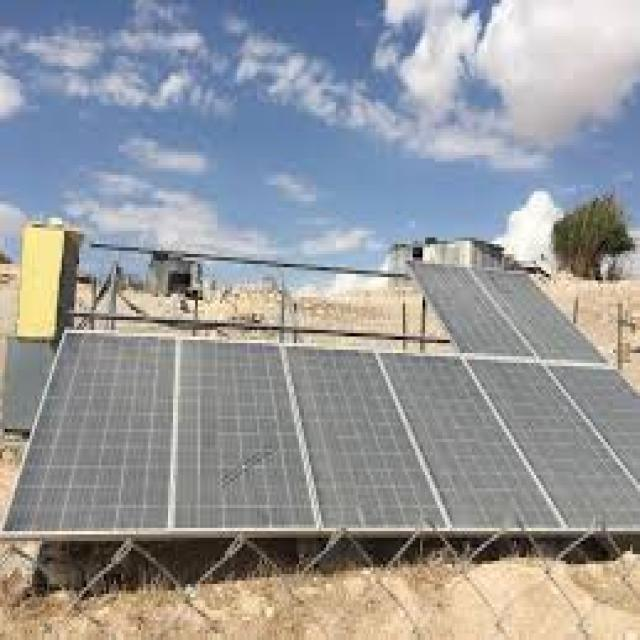dust-solar-panel: (0, 258, 640, 533)
